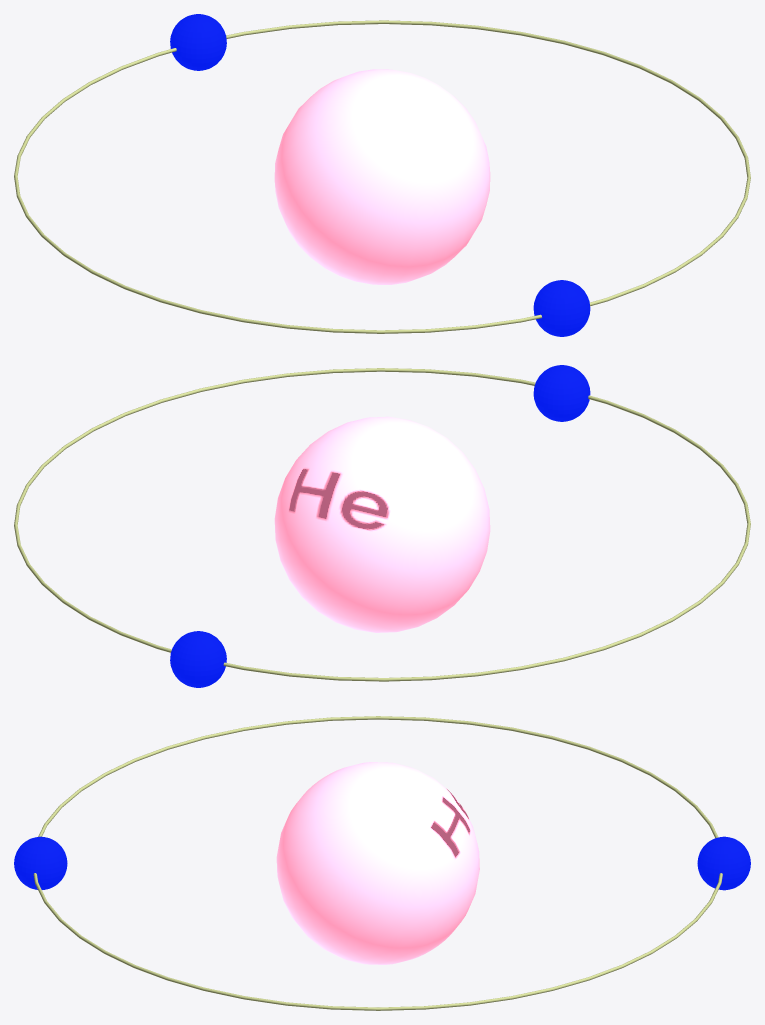
The picture shows the model from 3 angles, top to bottom: view 1: azimuth 30°, elevation 25°; view 2: azimuth 150°, elevation 25°; view 3: azimuth 270°, elevation 25°; orthographic projection. The views are drawn at different scales.
Visible parts, largest first — view 1: 球体, 贝塞尔圆环, 球体.001, 球体.004; view 2: 球体, 贝塞尔圆环, 球体.001, 球体.004; view 3: 球体, 贝塞尔圆环, 球体.001, 球体.004.
Boxes of the visible parts, box(x1,y1,x2,y2) form: 球体: box(274, 69, 490, 284); 贝塞尔圆环: box(14, 20, 750, 333); 球体.001: box(170, 14, 226, 70); 球体.004: box(533, 280, 590, 336); 球体: box(274, 416, 490, 632); 贝塞尔圆环: box(14, 368, 750, 681); 球体.001: box(170, 631, 226, 687); 球体.004: box(533, 365, 590, 421); 球体: box(276, 762, 479, 964); 贝塞尔圆环: box(33, 716, 722, 1010); 球体.001: box(697, 836, 750, 890); 球体.004: box(14, 836, 67, 889).
Bounding box in the file's own units: 1.22 × 0.3574 × 1.3.
Materials: 3 (1 with a texture image).
